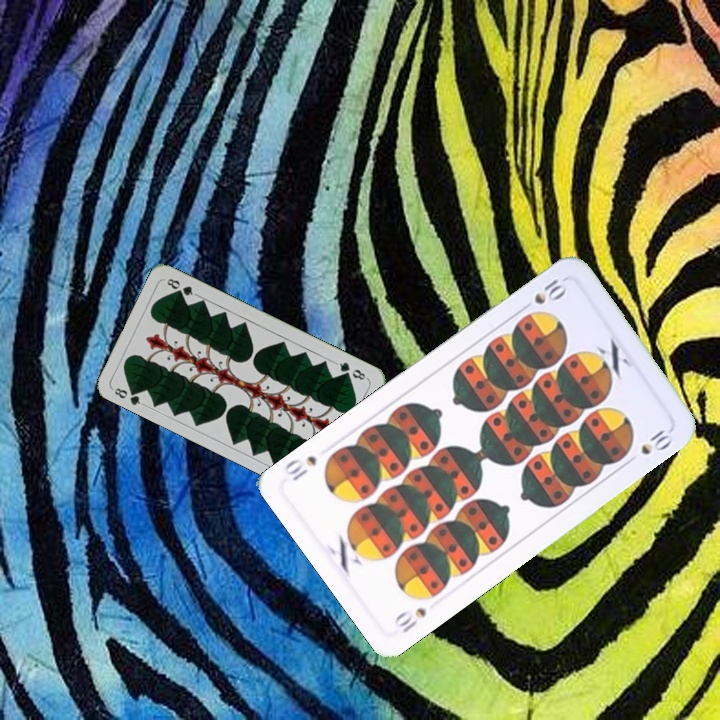G8: (332, 358, 370, 383), (110, 384, 147, 408)
S10: (516, 274, 570, 314), (390, 603, 429, 636)
